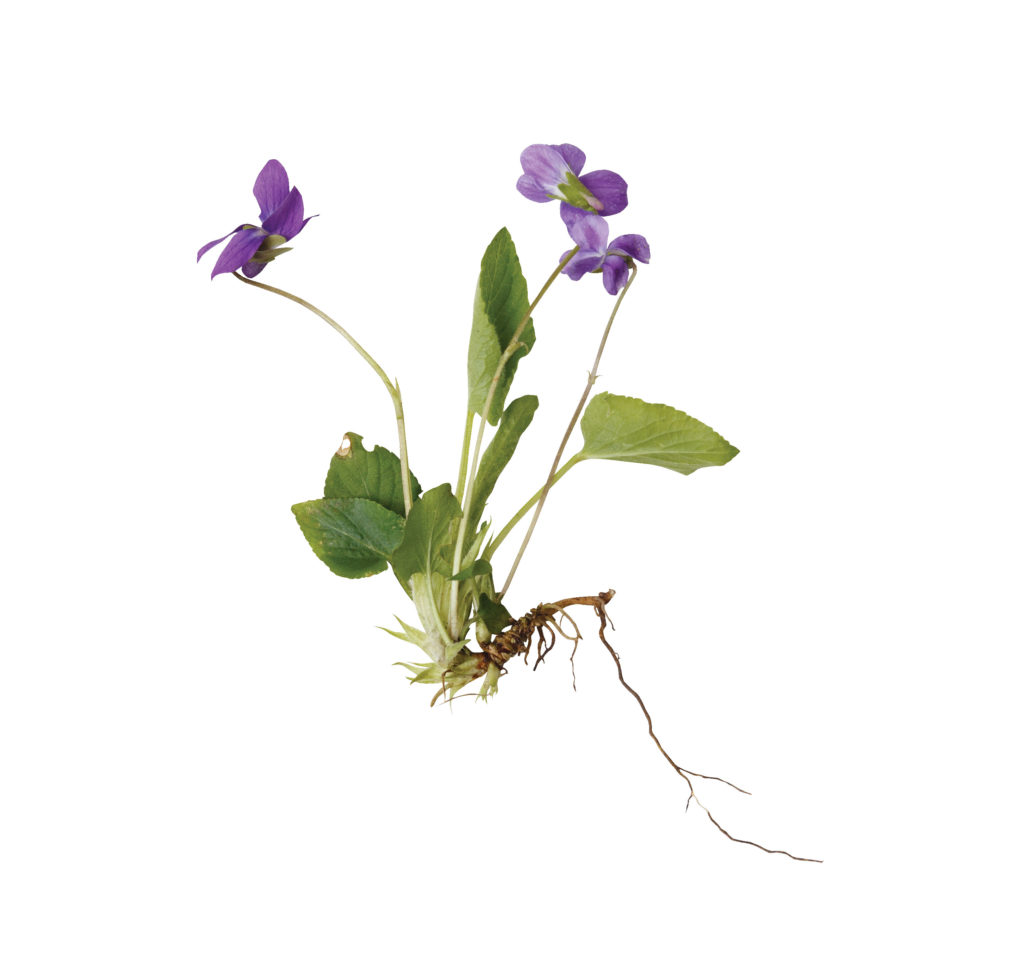violet: (194, 144, 318, 284), (512, 126, 636, 234), (552, 213, 655, 290)
